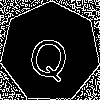Q: (25, 27, 74, 84)
